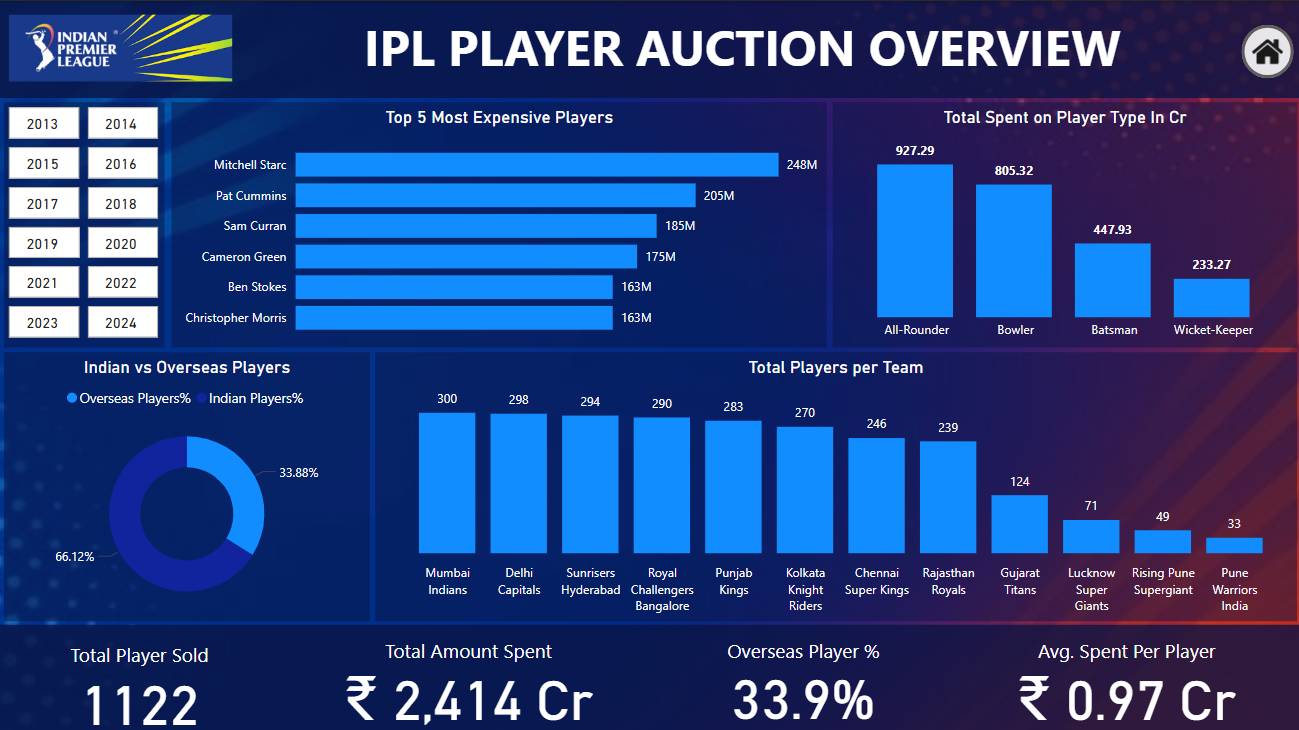

What the dashboard file says about the page in this screenshot:
{"tool":"powerbi","page":{"name":"Overview","canvas":[1280,720],"ordinal":1},"visuals":[{"type":"columnChart","title":"Total Players per Team","fields":{"Y":["Sum(overview.total_players)"],"Category":["teams.team"]},"box":[369.3,344.8,904.6,264],"z":0},{"type":"shape","box":[0,0,1279.7,95.2],"z":1000},{"type":"image","box":[4.3,8.7,229.4,75],"z":2000},{"type":"textbox","box":[353.4,7.4,764.4,81],"z":3000},{"type":"shape","box":[0,611.7,1279.7,108.2],"z":4000},{"type":"cardVisual","fields":{"Data":["sold_players.per_player"]},"box":[978.2,608.8,258.3,108.2],"z":5000},{"type":"cardVisual","fields":{"Data":["sold_players.Total_Spent(₹ Cr)"]},"box":[321.7,608.8,279.9,108.2],"z":6000},{"type":"cardVisual","fields":{"Data":["overview.Overseas Player %"]},"box":[673.8,608.8,232.3,108.2],"z":7000},{"type":"donutChart","title":"Indian vs Overseas Players","fields":{"Y":["Sum(overview.overseas_players)","Sum(overview.indian_players)"]},"box":[4.3,344.8,359.2,264],"z":8000},{"type":"columnChart","title":"Total Spent on Player Type In Cr","fields":{"Category":["player_type.type"],"Y":["sold_players.Sales Cr Value"]},"box":[818,99.6,455.9,240.9],"z":9000},{"type":"barChart","title":"Top 5 Most Expensive Players","fields":{"Category":["sold_players.player"],"Y":["Max(sold_players.price_paid)"]},"box":[168.8,99.6,643.5,240.9],"z":10000},{"type":"advancedSlicerVisual","fields":{"Values":["years.year"]},"box":[4.3,99.6,157.3,240.9],"z":11000},{"type":"cardVisual","fields":{"Data":["CountNonNull(sold_players.player)"]},"box":[21.6,611.7,232.3,108.2],"z":12000},{"type":"actionButton","box":[1219.6,23.3,51.5,52.8],"z":13000}]}

Visuals, with their boxes in screenshot pixels (x1, y1, x2, y2), scaled from the page's 1280x720 canvas onto the 1299x730 screenshot:
"Total Players per Team" columnChart: {"left": 375, "top": 350, "right": 1293, "bottom": 617}
shape: {"left": 0, "top": 0, "right": 1298, "bottom": 97}
image: {"left": 4, "top": 9, "right": 237, "bottom": 85}
textbox: {"left": 359, "top": 8, "right": 1134, "bottom": 90}
shape: {"left": 0, "top": 620, "right": 1298, "bottom": 729}
cardVisual - sold_players.per_player: {"left": 993, "top": 617, "right": 1255, "bottom": 727}
cardVisual - sold_players.Total_Spent(₹ Cr): {"left": 326, "top": 617, "right": 611, "bottom": 727}
cardVisual - overview.Overseas Player %: {"left": 684, "top": 617, "right": 920, "bottom": 727}
"Indian vs Overseas Players" donutChart: {"left": 4, "top": 350, "right": 369, "bottom": 617}
"Total Spent on Player Type In Cr" columnChart: {"left": 830, "top": 101, "right": 1293, "bottom": 345}
"Top 5 Most Expensive Players" barChart: {"left": 171, "top": 101, "right": 824, "bottom": 345}
advancedSlicerVisual - years.year: {"left": 4, "top": 101, "right": 164, "bottom": 345}
cardVisual - CountNonNull(sold_players.player): {"left": 22, "top": 620, "right": 258, "bottom": 729}
actionButton: {"left": 1238, "top": 24, "right": 1290, "bottom": 77}
